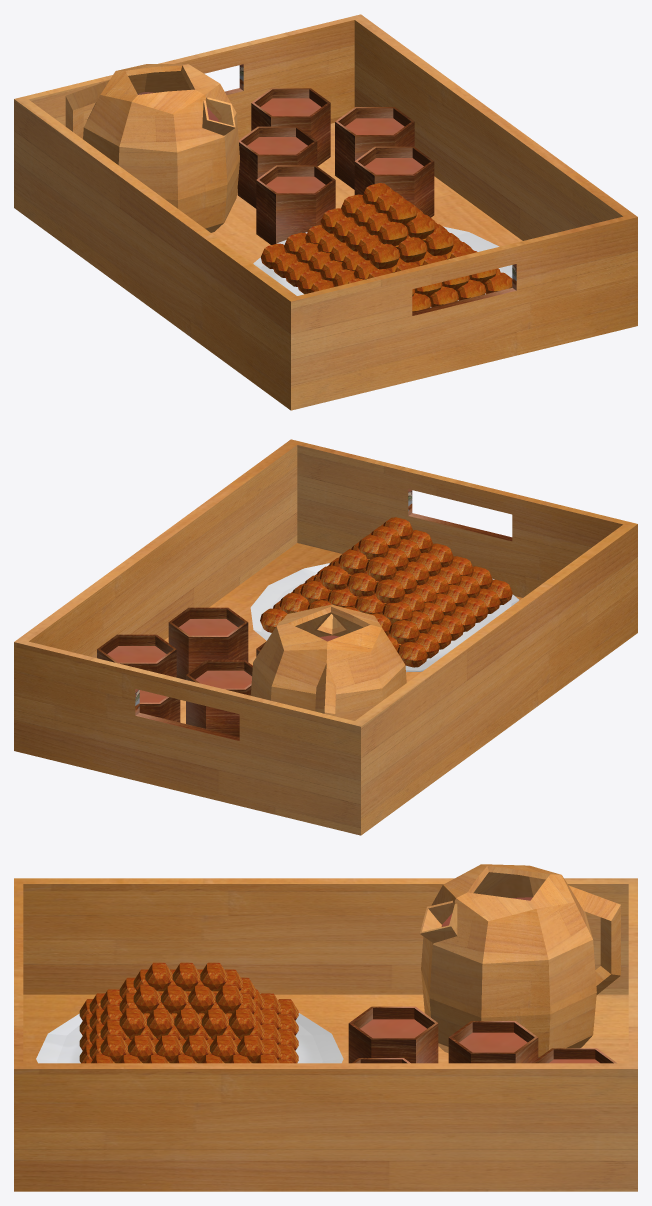
File: Comida.fbx
The picture shows the model from 3 angles, top to bottom: view 1: azimuth 30°, elevation 25°; view 2: azimuth 150°, elevation 25°; view 3: azimuth 270°, elevation 25°; orthographic projection. The views are drawn at different scales.
Visible parts, largest first — view 1: Comida; view 2: Comida; view 3: Comida.
Boxes of the visible parts, <box> form: Comida: <box>14,14,637,410</box>; Comida: <box>14,439,637,835</box>; Comida: <box>14,864,637,1191</box>.
Bounding box in the file's own units: 100 × 40.99 × 138.
